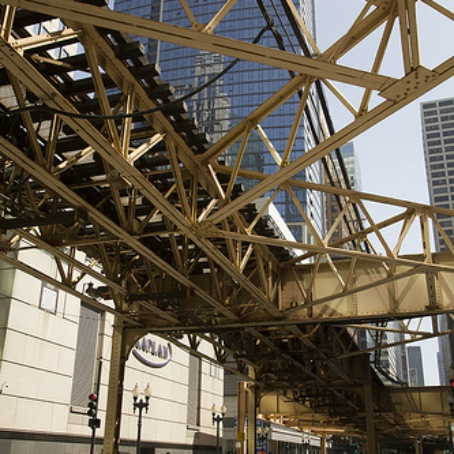bridge: (1, 6, 420, 449)
building: (127, 1, 327, 255), (423, 103, 454, 406)
